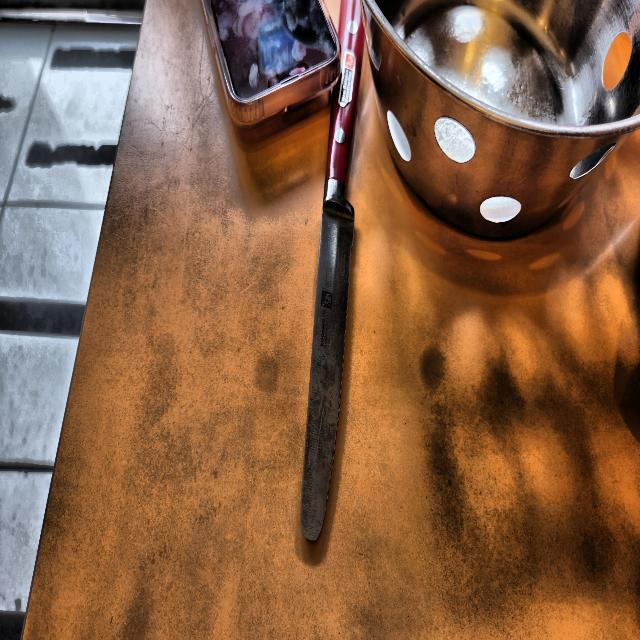knife: (300, 0, 365, 543)
